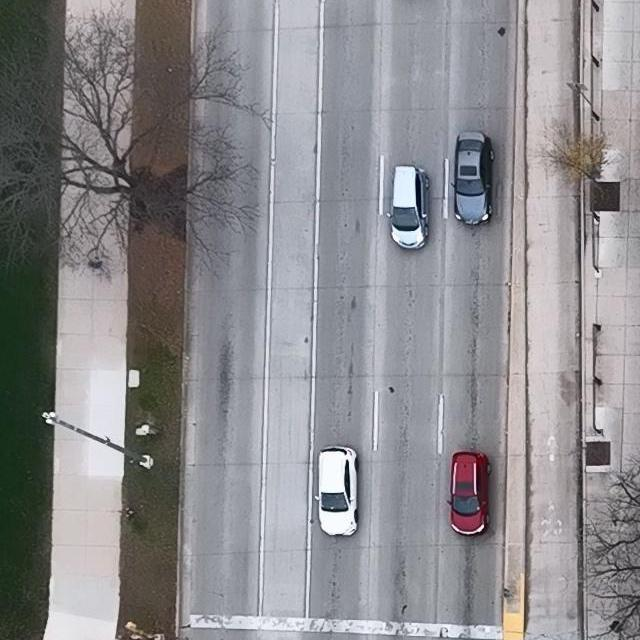car: (450, 132, 496, 227), (314, 445, 359, 537), (446, 452, 492, 536), (386, 166, 431, 249)
